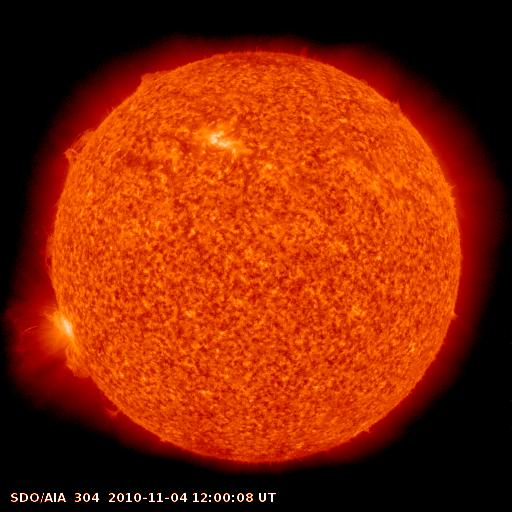prominence: (26, 204, 59, 296), (49, 121, 105, 169), (60, 344, 103, 386), (134, 66, 177, 101), (95, 398, 146, 427), (382, 86, 413, 117)
